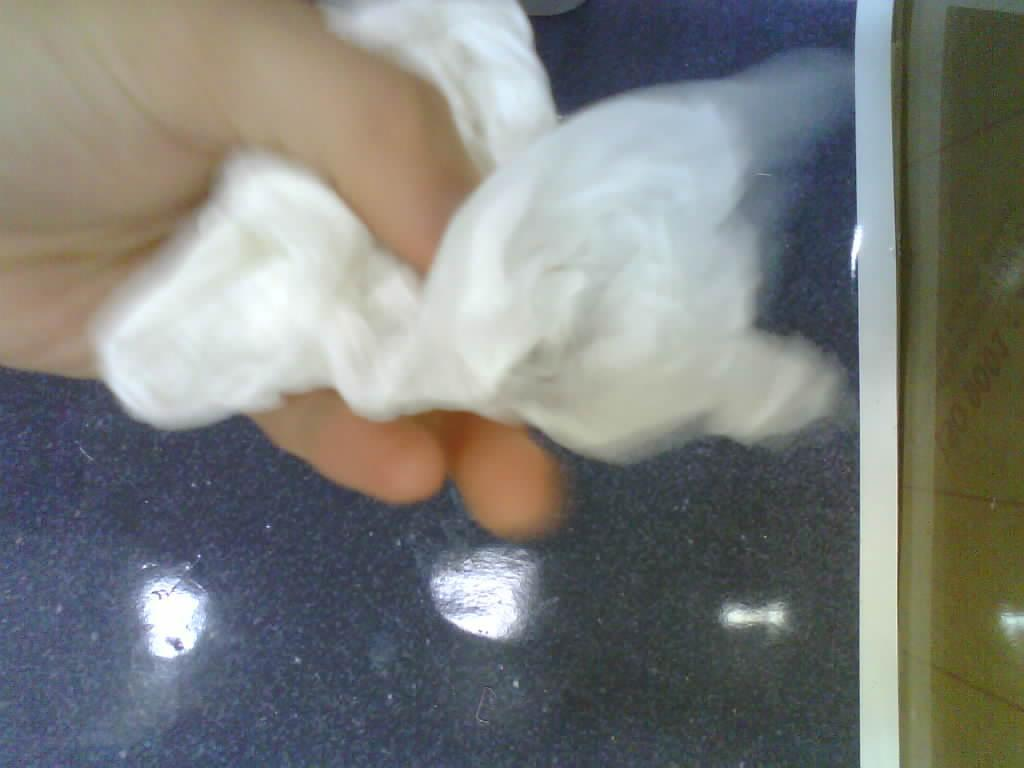paper: (96, 4, 852, 460)
